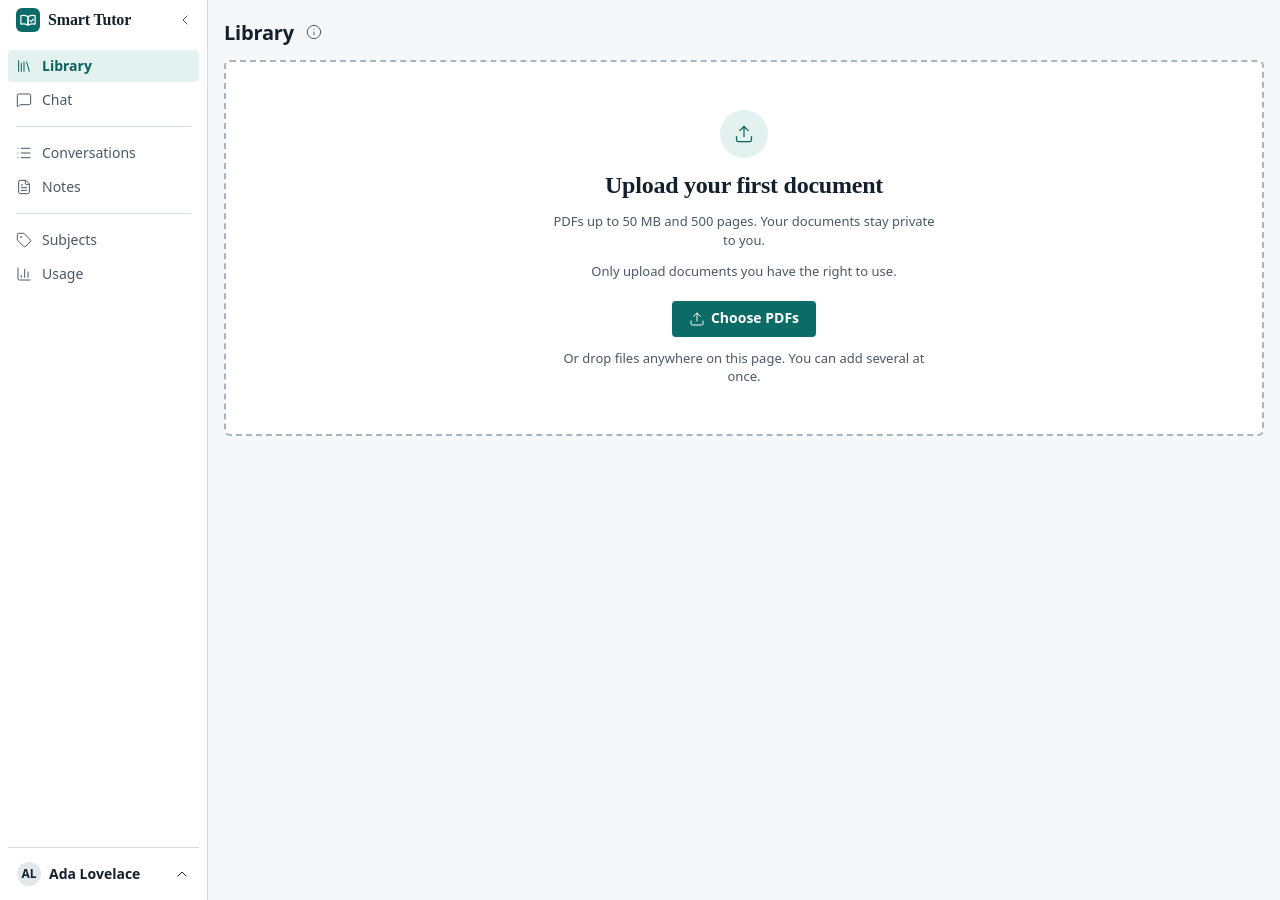
app shell routes › moves to a page and marks it current when a nav item is clicked
Click the link "Usage" at (50, 273), box [16,264,83,283]
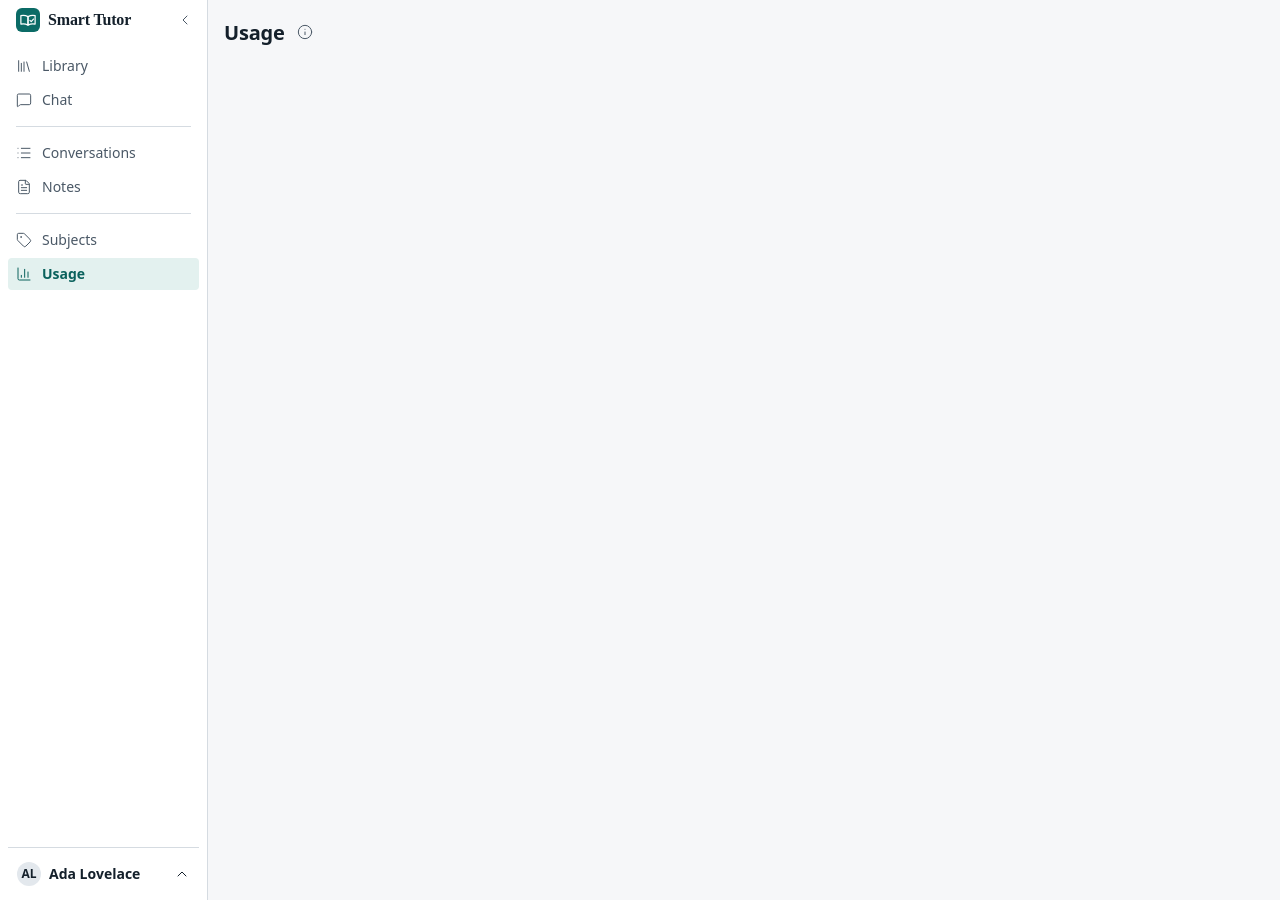
Check: the heading "Usage" is shown, box [224,20,285,44]
